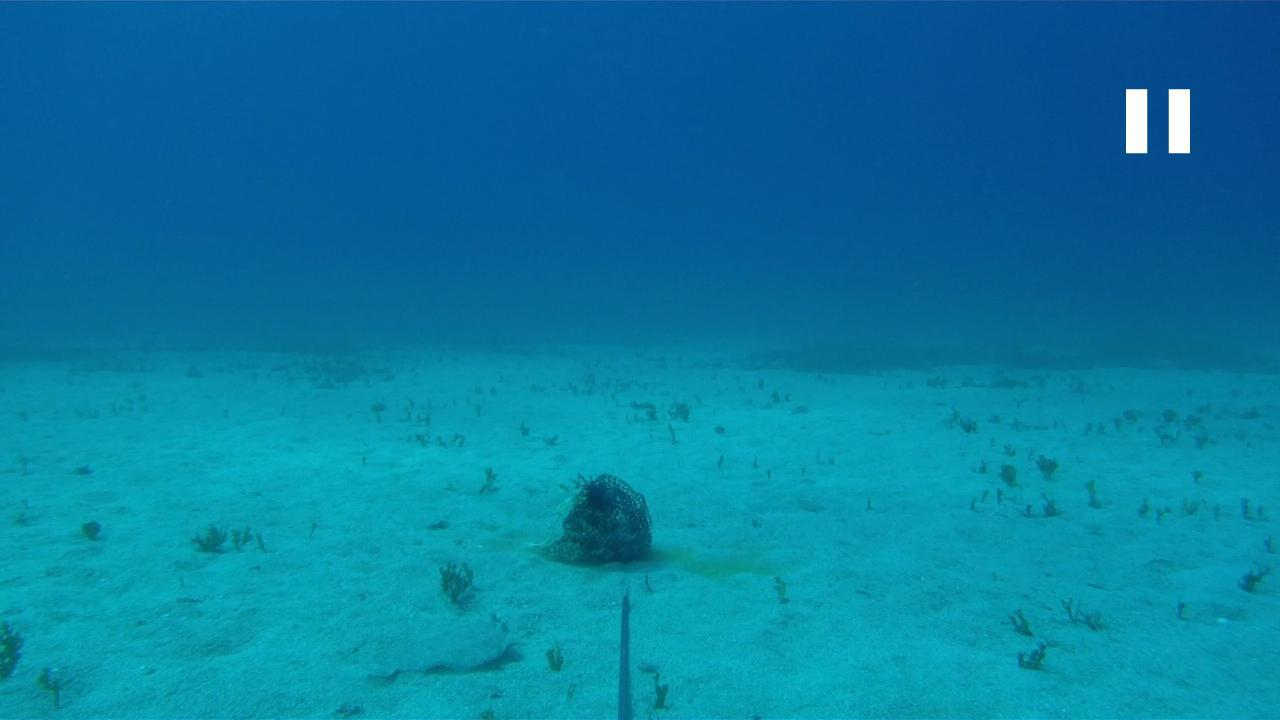bothus: (362, 607, 518, 682)
